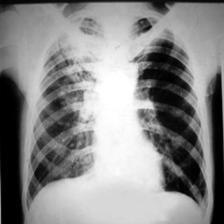tuberculosis: (19, 9, 213, 224)
